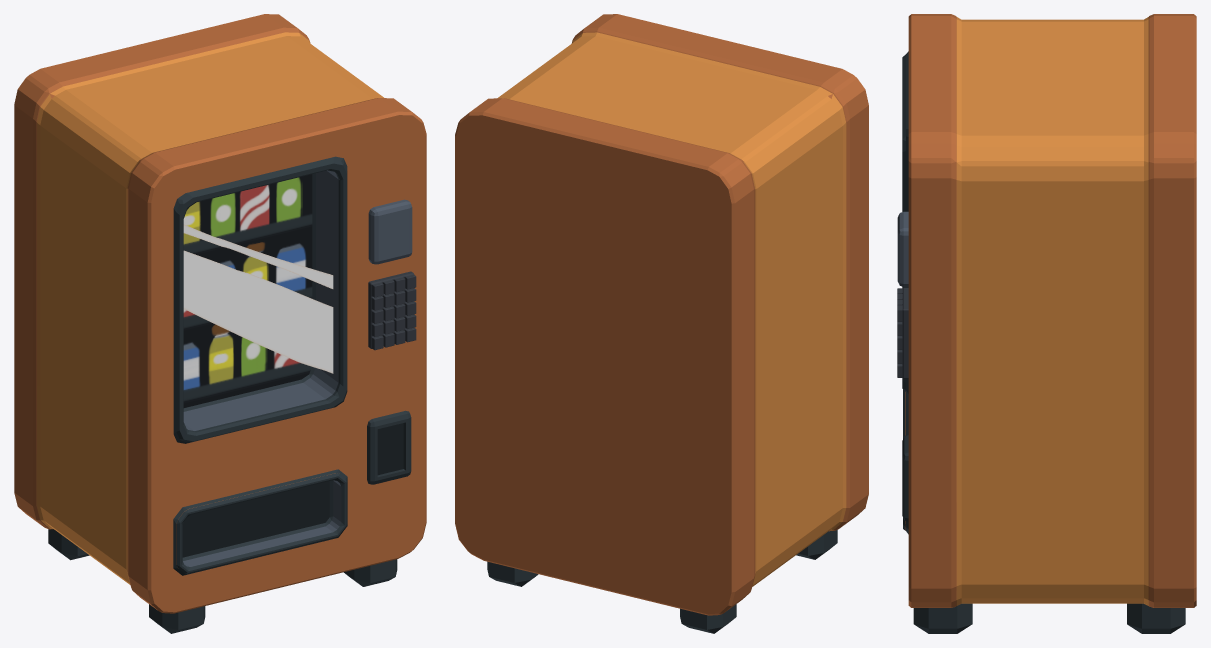
The model's file is 3D_Vending_Machine-Yellow.fbx.
The picture shows the model from 3 angles, left to right: view 1: azimuth 30°, elevation 25°; view 2: azimuth 150°, elevation 25°; view 3: azimuth 270°, elevation 25°; orthographic projection. The views are drawn at different scales.
Parts seen in each view (by area): view 1: 3D_Vending_Machine-Yellow; view 2: 3D_Vending_Machine-Yellow; view 3: 3D_Vending_Machine-Yellow.
Part boxes in pixels (box(x1,y1,x2,y2)): 3D_Vending_Machine-Yellow: box(14, 14, 426, 633); 3D_Vending_Machine-Yellow: box(455, 14, 868, 633); 3D_Vending_Machine-Yellow: box(897, 14, 1196, 633).
Bounding box in the file's own units: 1.5 × 2.44 × 1.32.
